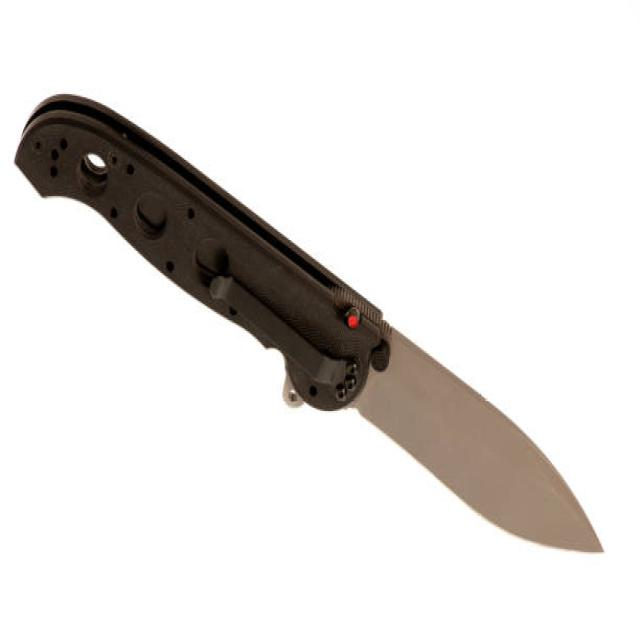knife: (13, 83, 613, 572)
